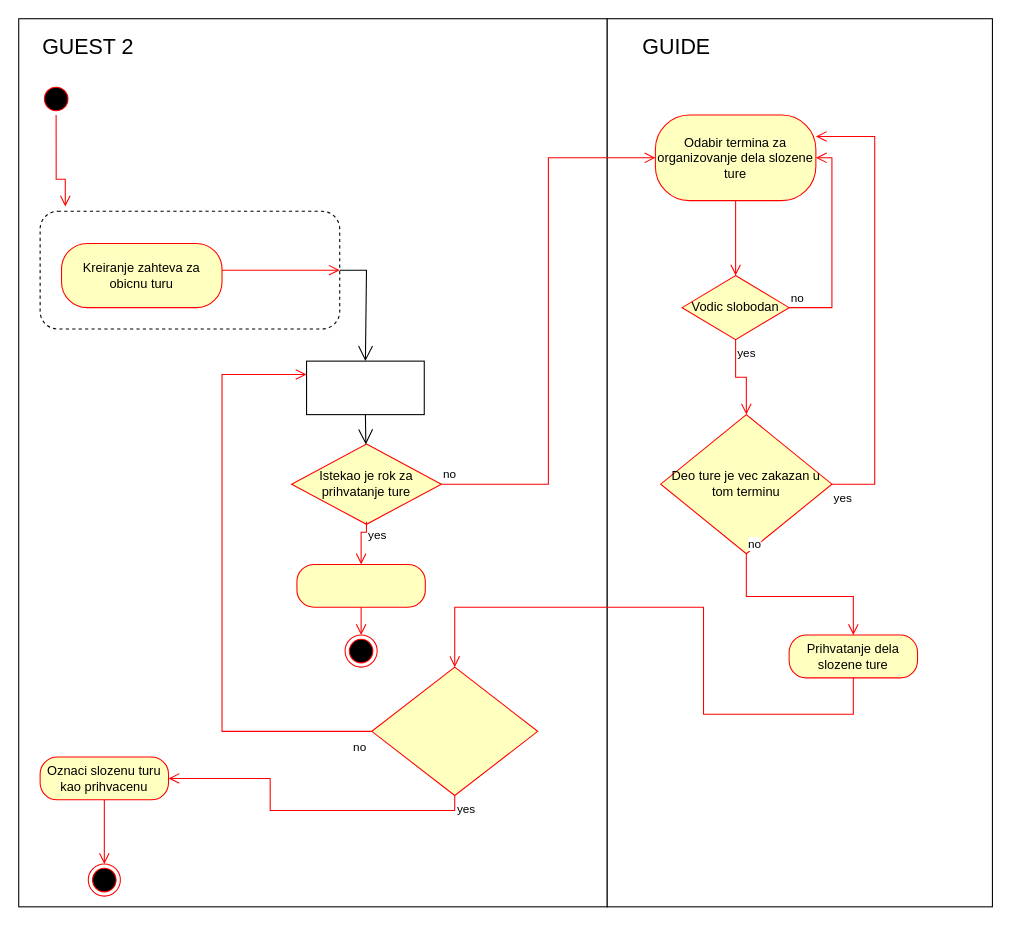
The diagram is 1011 pixels wide and 926 high, and some of its shapes have lost their labels. The centre of each missing label's shape, as x and y in pixels:
"Oznaci slozenu turu kao nevazecu" belongs at point (360, 585).
"Svi delovi slozene ture su prihvaceni" belongs at point (454, 731).
"Zahtev za slozenu turu" belongs at point (364, 387).
